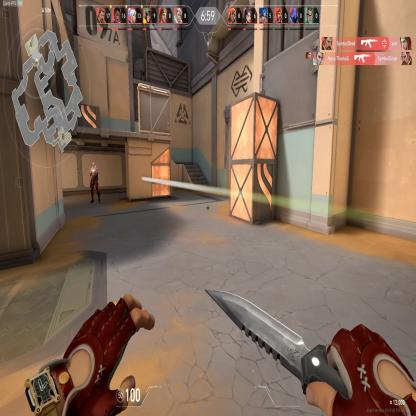enemy: (88, 160, 101, 204)
